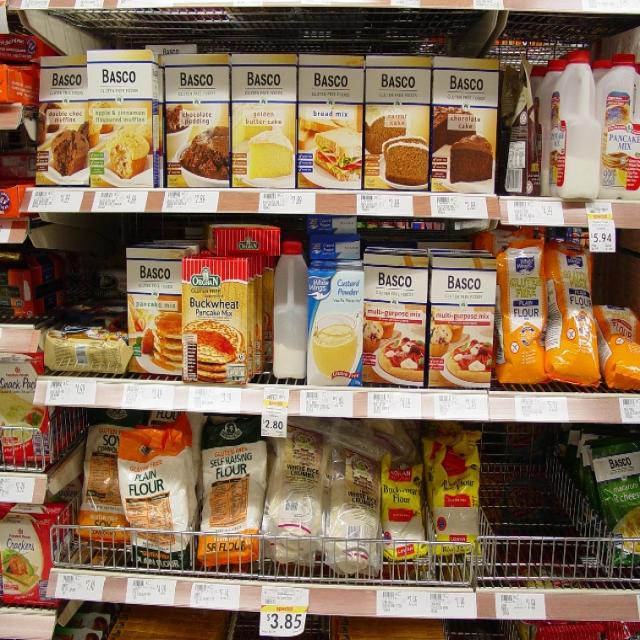q187: (547, 54, 602, 206), (608, 49, 640, 209)
